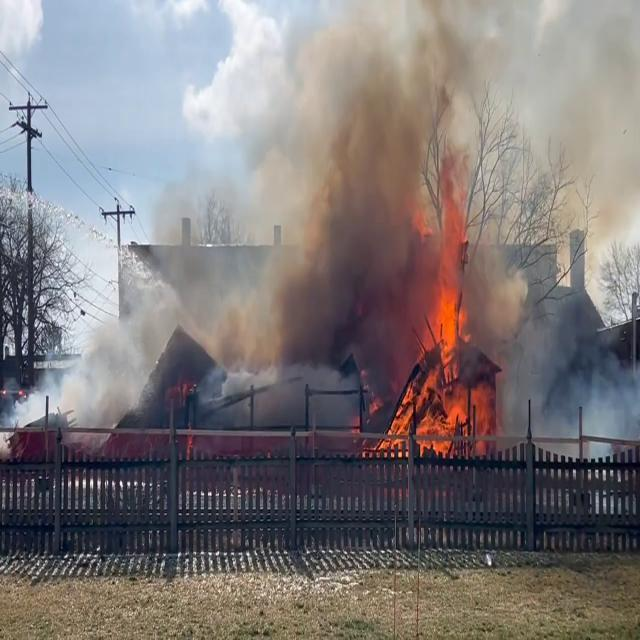Fire: (392, 198, 500, 463)
Smoke: (87, 0, 638, 432)
